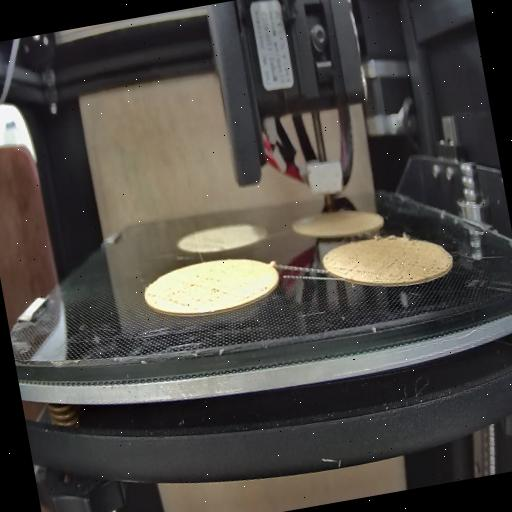under_extrusion: (162, 268, 226, 312), (380, 240, 440, 286), (332, 256, 370, 280), (245, 278, 272, 300)
